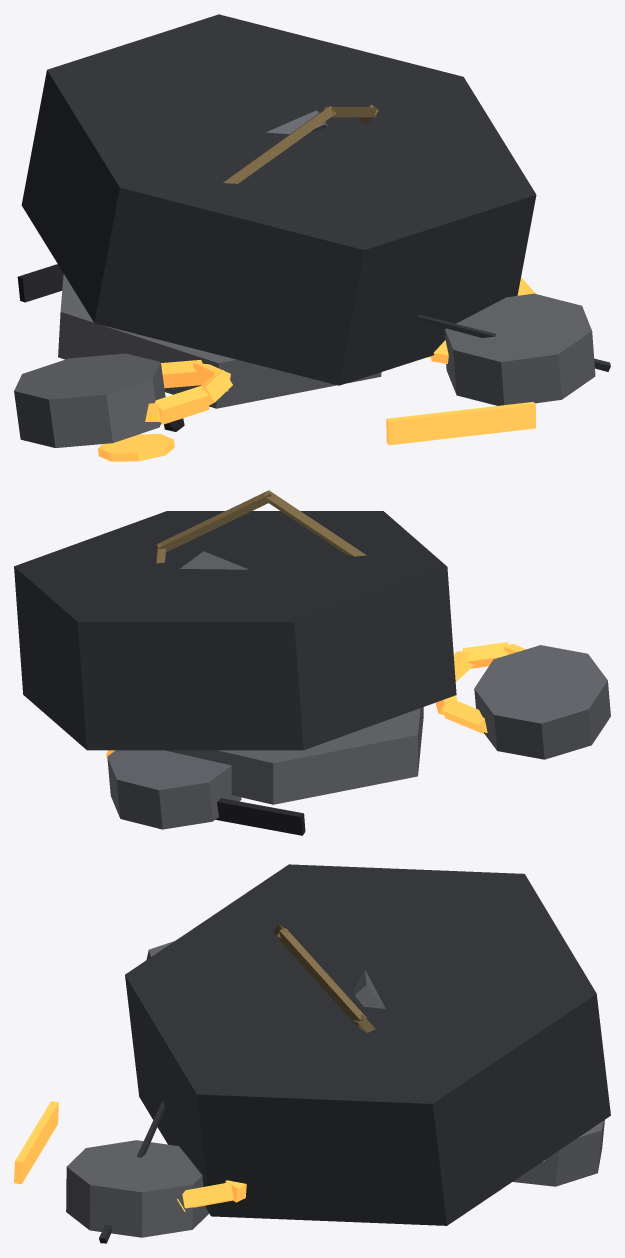
File: Wreck_Aegis_Override.fbx
3 renders of one model, top to bottom at view 1: azimuth 30°, elevation 25°; view 2: azimuth 150°, elevation 25°; view 3: azimuth 270°, elevation 25°, orthographic. The views are drawn at different scales.
Parts seen in each view (by area): view 1: Wreck_Aegis_Override; view 2: Wreck_Aegis_Override; view 3: Wreck_Aegis_Override.
Part boxes in pixels (bbox=[...]): Wreck_Aegis_Override: bbox=[14, 14, 610, 461]; Wreck_Aegis_Override: bbox=[14, 490, 610, 835]; Wreck_Aegis_Override: bbox=[14, 864, 610, 1243].
Bounding box in the file's own units: 0.7513 × 0.3332 × 0.7371.
